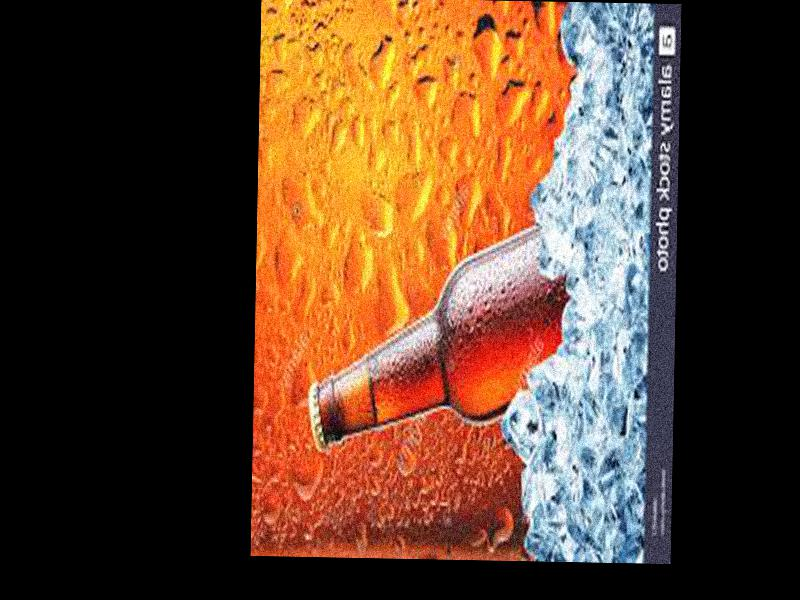Beer: (306, 224, 572, 468)
